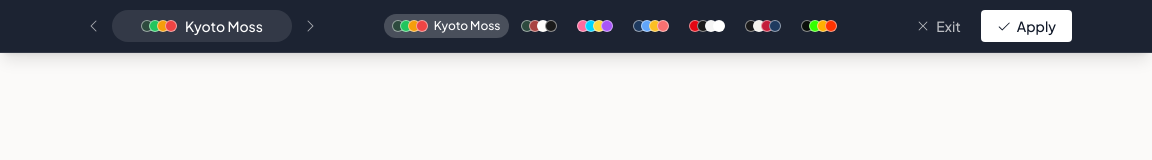
it: StatusPagePreviewBanner › applies theme and exits preview on success
Click the button "Apply" at (1026, 26), box [981,10,1072,42]
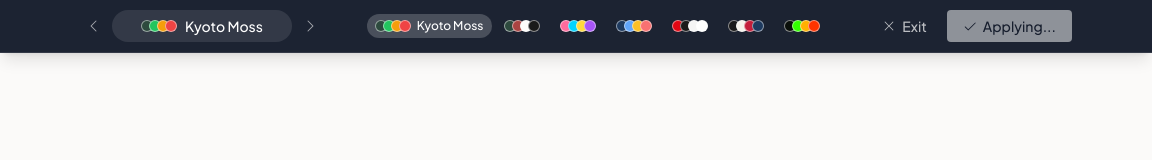
Result: the button "Applying..." is disabled at [947,10,1072,42]
Result: the button "Applying..." is shown at [947,10,1072,42]
